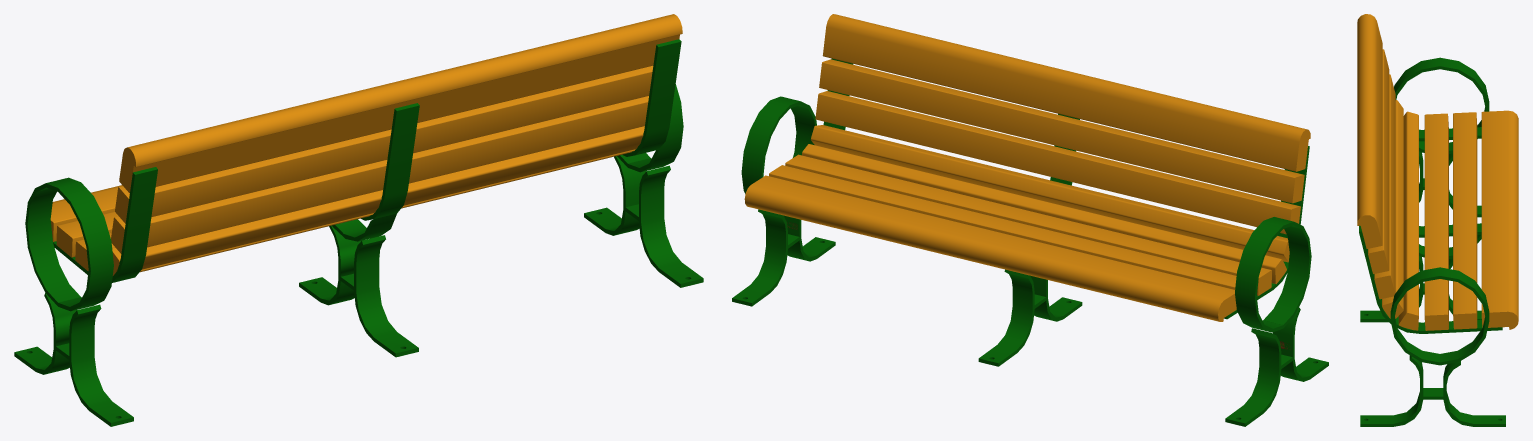
3 renders of one model, left to right at view 1: azimuth 30°, elevation 25°; view 2: azimuth 150°, elevation 25°; view 3: azimuth 270°, elevation 25°, orthographic. The views are drawn at different scales.
Visible parts, largest first — view 1: mesh33_mesh33-geometry, mesh31_mesh31-geometry, mesh35_mesh35-geometry, mesh3_mesh3-geometry, mesh1_mesh1-geometry, mesh21_mesh21-geometry, mesh11_mesh11-geometry, mesh2_mesh2-geometry, mesh22_mesh22-geometry, mesh13_mesh13-geometry, mesh23_mesh23-geometry, mesh12_mesh12-geometry; view 2: mesh33_mesh33-geometry, mesh31_mesh31-geometry, mesh35_mesh35-geometry, mesh3_mesh3-geometry, mesh1_mesh1-geometry, mesh11_mesh11-geometry, mesh21_mesh21-geometry, mesh23_mesh23-geometry, mesh2_mesh2-geometry; view 3: mesh33_mesh33-geometry, mesh31_mesh31-geometry, mesh35_mesh35-geometry, mesh23_mesh23-geometry, mesh21_mesh21-geometry, mesh3_mesh3-geometry, mesh22_mesh22-geometry, mesh11_mesh11-geometry, mesh1_mesh1-geometry, mesh2_mesh2-geometry, mesh13_mesh13-geometry.
Part boxes in pixels (bbox=[...]): mesh33_mesh33-geometry: bbox=[56, 65, 653, 270]; mesh31_mesh31-geometry: bbox=[50, 14, 682, 241]; mesh35_mesh35-geometry: bbox=[112, 126, 644, 275]; mesh3_mesh3-geometry: bbox=[25, 177, 113, 311]; mesh1_mesh1-geometry: bbox=[14, 293, 133, 426]; mesh21_mesh21-geometry: bbox=[584, 156, 703, 287]; mesh11_mesh11-geometry: bbox=[299, 225, 418, 357]; mesh2_mesh2-geometry: bbox=[53, 167, 157, 282]; mesh22_mesh22-geometry: bbox=[622, 39, 681, 156]; mesh13_mesh13-geometry: bbox=[361, 103, 419, 220]; mesh23_mesh23-geometry: bbox=[617, 84, 683, 172]; mesh12_mesh12-geometry: bbox=[332, 213, 396, 241]; mesh33_mesh33-geometry: bbox=[769, 59, 1304, 295]; mesh31_mesh31-geometry: bbox=[744, 14, 1310, 321]; mesh35_mesh35-geometry: bbox=[802, 125, 1289, 284]; mesh3_mesh3-geometry: bbox=[1235, 217, 1311, 332]; mesh1_mesh1-geometry: bbox=[1225, 307, 1328, 426]; mesh11_mesh11-geometry: bbox=[978, 269, 1082, 366]; mesh21_mesh21-geometry: bbox=[732, 209, 835, 306]; mesh23_mesh23-geometry: bbox=[741, 96, 816, 193]; mesh2_mesh2-geometry: bbox=[1224, 146, 1309, 319]; mesh33_mesh33-geometry: bbox=[1368, 49, 1477, 330]; mesh31_mesh31-geometry: bbox=[1357, 14, 1518, 329]; mesh35_mesh35-geometry: bbox=[1382, 100, 1418, 330]; mesh23_mesh23-geometry: bbox=[1390, 267, 1489, 365]; mesh21_mesh21-geometry: bbox=[1360, 355, 1505, 426]; mesh3_mesh3-geometry: bbox=[1394, 57, 1489, 153]; mesh22_mesh22-geometry: bbox=[1359, 225, 1502, 333]; mesh11_mesh11-geometry: bbox=[1360, 256, 1481, 322]; mesh1_mesh1-geometry: bbox=[1419, 151, 1481, 217]; mesh2_mesh2-geometry: bbox=[1419, 127, 1481, 141]; mesh13_mesh13-geometry: bbox=[1419, 223, 1481, 237].
Bounding box in the file's own units: 0.8815 × 0.3831 × 0.276.
